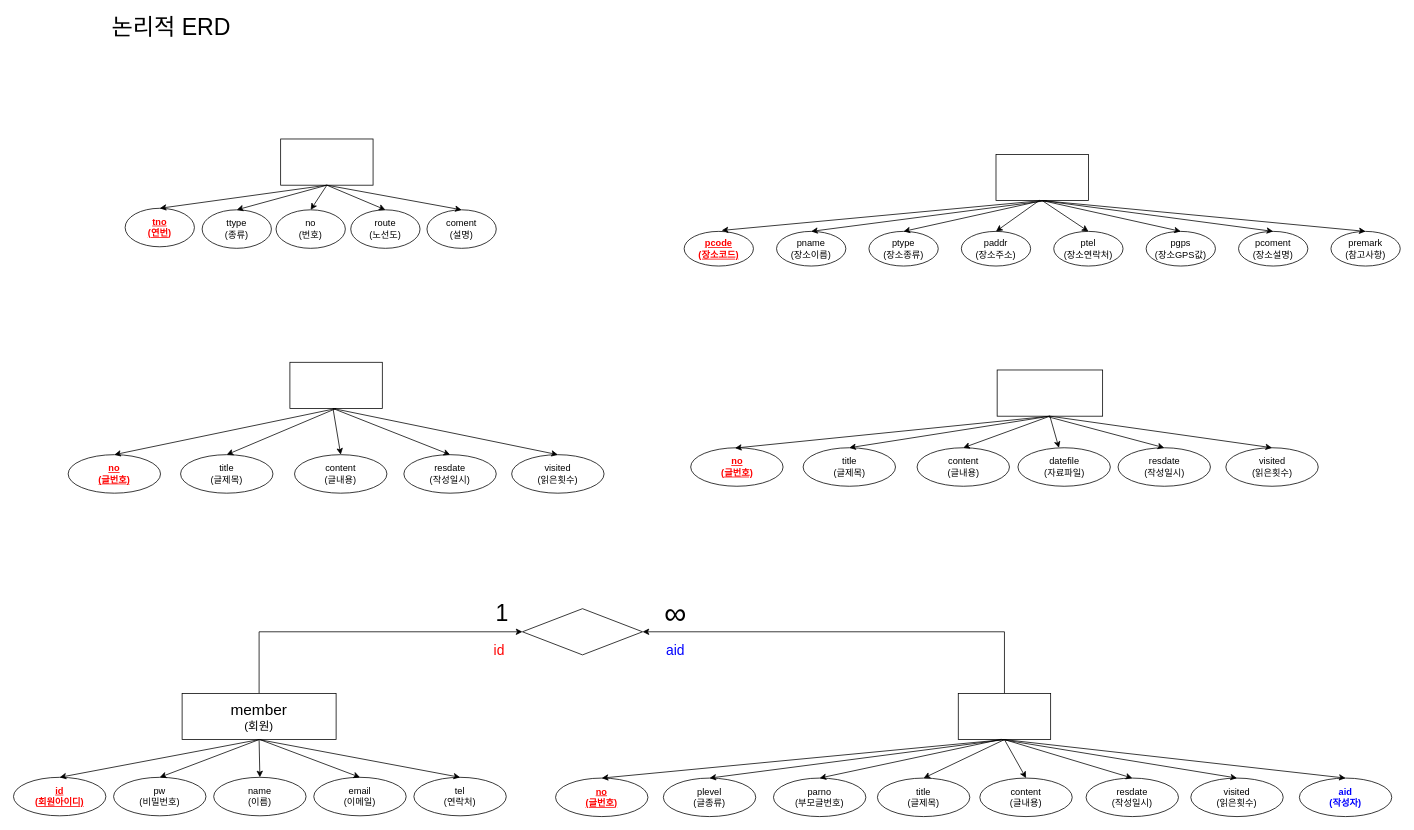
Some shapes in this 1414 by 830 pixel diagram are drawn without their labels. Here are the shapes that lost their labels. From the top down, the box of each, then its label:
(280, 138, 373, 185): traffic (교통편)
(995, 154, 1088, 201): guide (안내사항)
(289, 362, 382, 408): notice (공지사항)
(996, 369, 1103, 416): data (자료실)
(522, 608, 643, 655): 글 등록
(957, 693, 1051, 740): qna (묻고 답하기)
